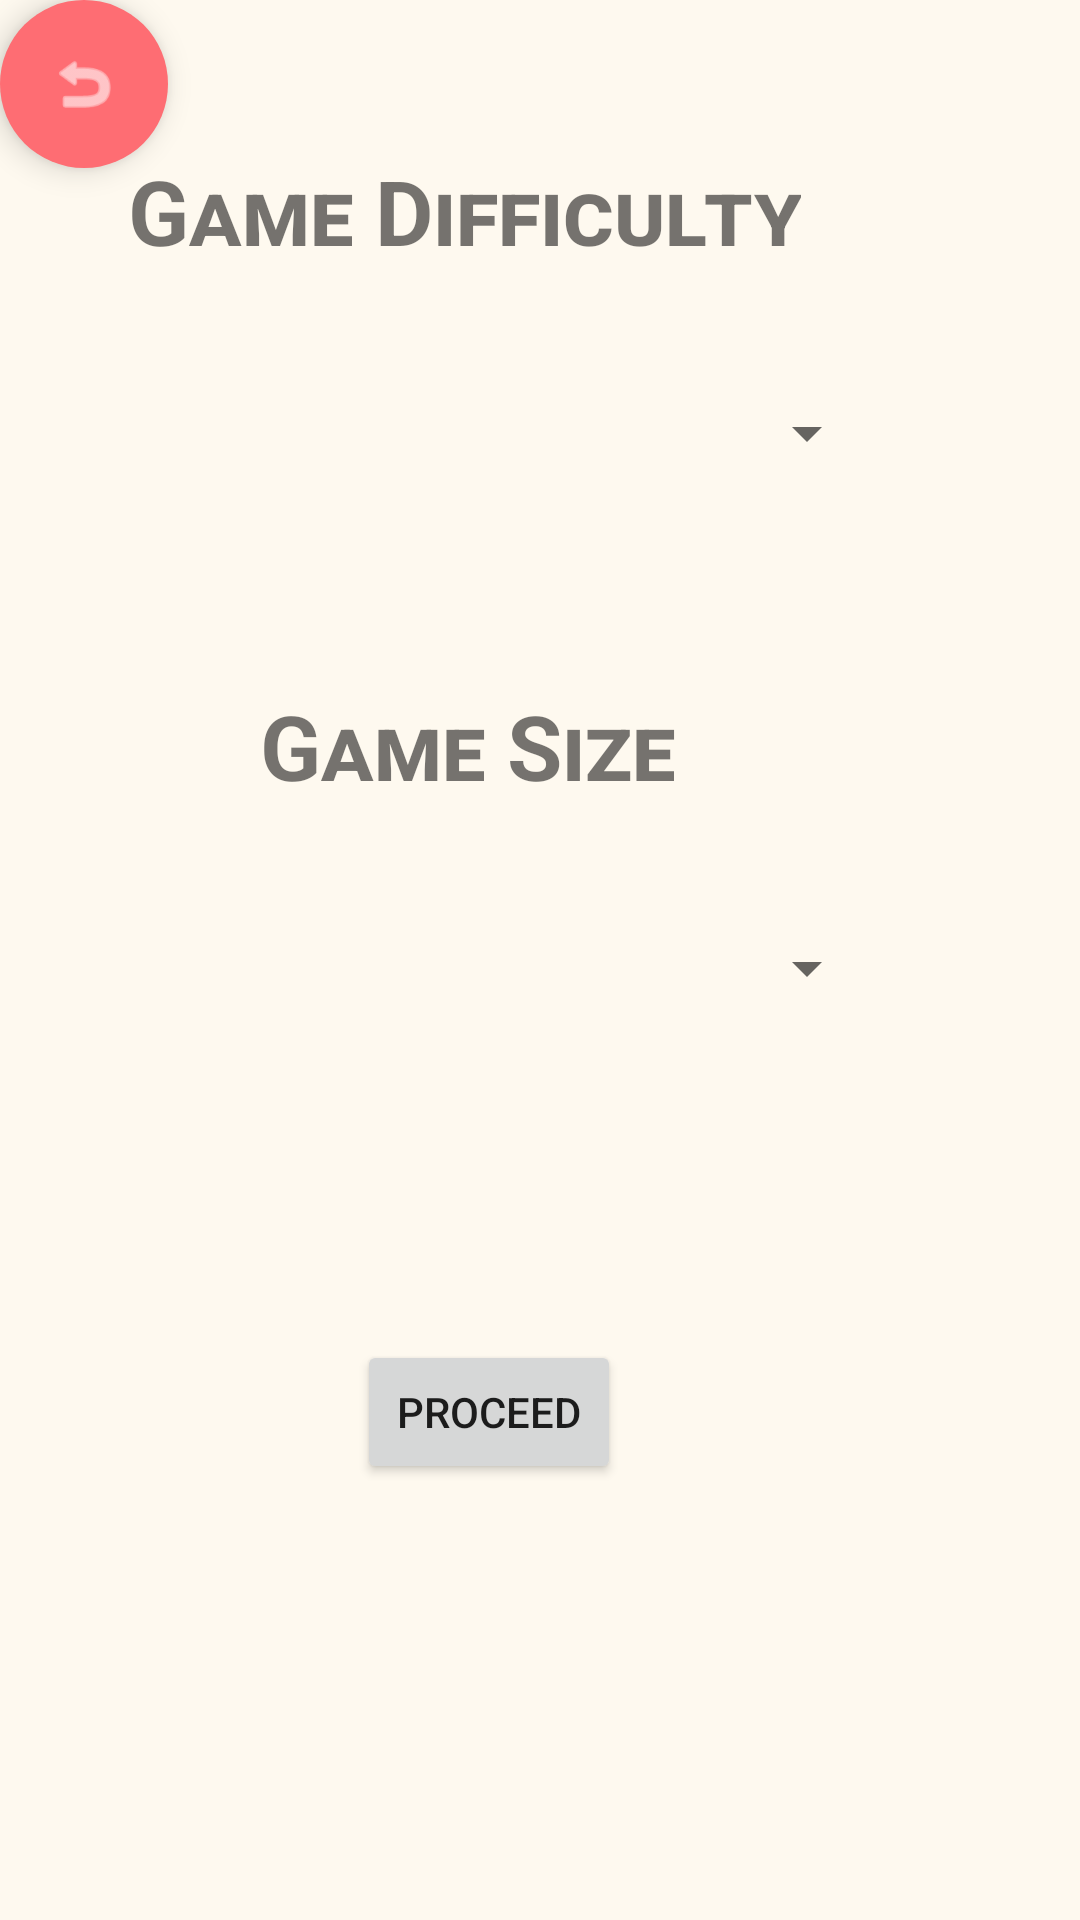

Point at icon controls on the screen. Image size 1080px x 1920px, points as [x,y].
revert: [84,84]
